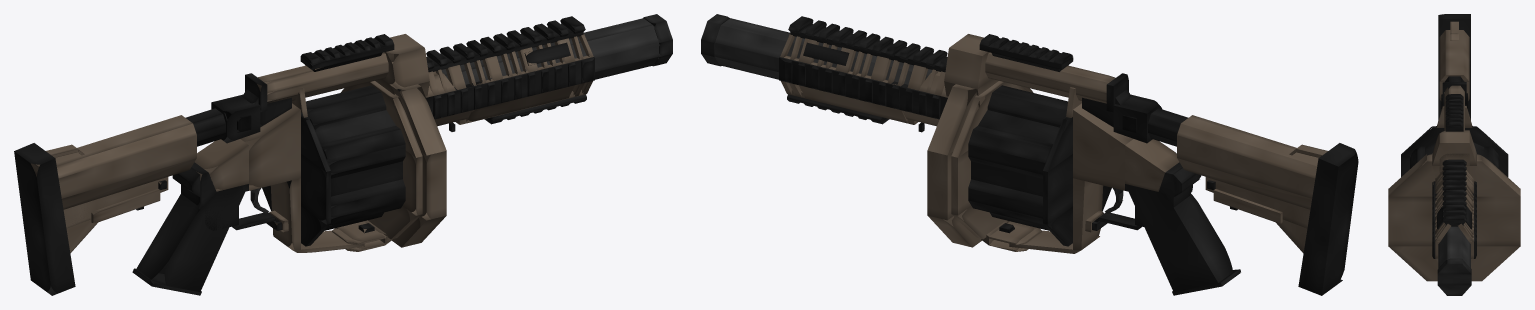
Rendered from mglml1l.obj.
3 renders of one model, left to right at view 1: azimuth 30°, elevation 25°; view 2: azimuth 150°, elevation 25°; view 3: azimuth 270°, elevation 25°, orthographic. The views are drawn at different scales.
Visible parts, largest first — view 1: gunModel0, gunModel178, gunModel5, gunModel176, gunModel175, gunModel56, gunModel7, gunModel75, gunModel29, gunModel19, gunModel69, gunModel71 (+39 smaller); view 2: gunModel0, gunModel178, gunModel5, gunModel176, gunModel175, gunModel56, gunModel7, gunModel29, gunModel201, gunModel69, gunModel19, gunModel41 (+37 smaller); view 3: gunModel17, gunModel19, gunModel18, gunModel176, gunModel69, gunModel56, gunModel25, gunModel178, gunModel59, gunModel60, gunModel23, gunModel71 (+32 smaller).
Part boxes in pixels (x1,y1,x2,y2): gunModel0: (136,181,248,291); gunModel178: (14,143,75,295); gunModel5: (240,103,300,190); gunModel176: (31,115,196,178); gunModel175: (35,135,196,198); gunModel56: (397,18,658,91); gunModel7: (194,139,248,191); gunModel75: (433,57,594,117); gunModel29: (306,85,386,124); gunModel19: (341,81,446,155); gunModel69: (382,34,429,89); gunModel71: (257,52,388,92); gunModel0: (1125,184,1237,291); gunModel178: (1298,143,1358,295); gunModel5: (1073,103,1133,190); gunModel176: (1177,115,1318,178); gunModel175: (1177,135,1315,198); gunModel56: (715,18,932,84); gunModel7: (1125,139,1179,191); gunModel29: (987,85,1067,124); gunModel201: (779,57,940,117); gunModel69: (944,34,991,89); gunModel19: (927,84,1033,155); gunModel41: (968,126,1052,162); gunModel17: (1388,196,1520,246); gunModel19: (1388,154,1520,196); gunModel18: (1388,246,1520,281); gunModel176: (1439,30,1469,81); gunModel69: (1432,130,1476,165); gunModel56: (1438,226,1470,268); gunModel25: (1401,126,1508,156); gunModel178: (1438,14,1470,119); gunModel59: (1437,258,1471,274); gunModel60: (1437,274,1471,285); gunModel23: (1401,156,1508,177); gunModel71: (1444,85,1464,130).
Bounding box in the file's own units: 19 × 5.8 × 4.45.
